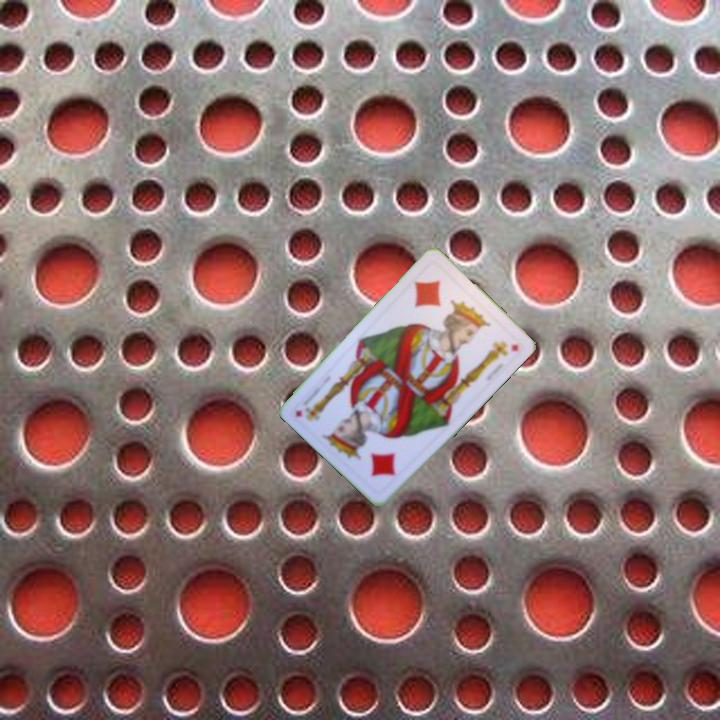d_k.png: (333, 411, 420, 497), (395, 258, 481, 344)
